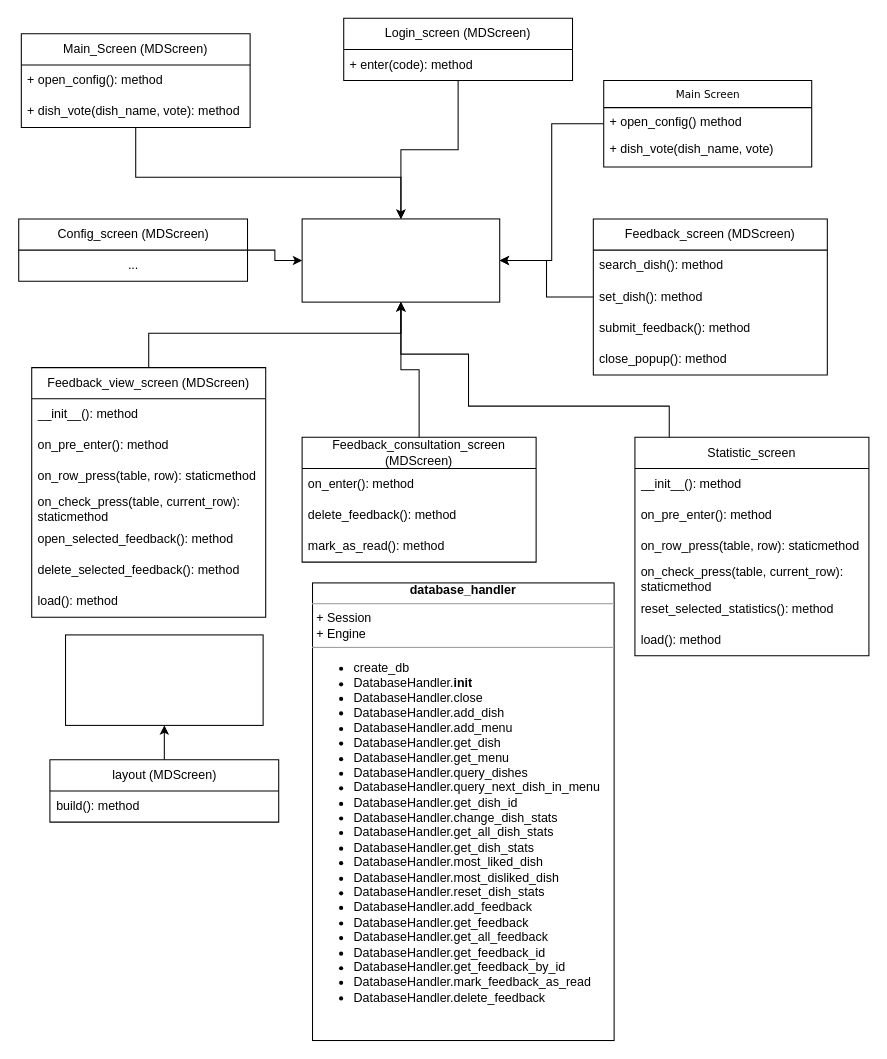
Image size: 887x1059. Some labels were removed from this diagram. The shapes that lost their labels are listed below. From the top down, each one's centre as x and y in pixels, then its label:
pixel 400 260: MDScreen … …
pixel 163 679: MDApp … …
